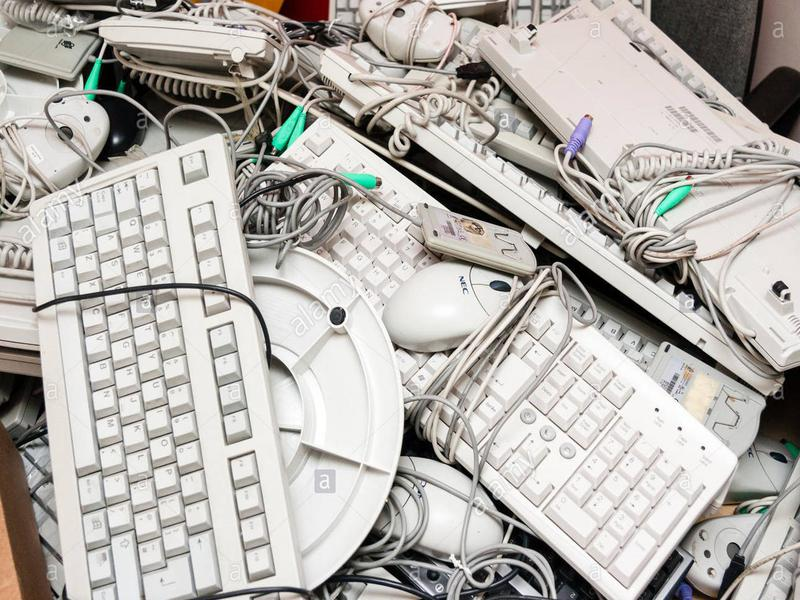keyboard: (248, 120, 740, 600), (26, 135, 303, 600)
mouse: (372, 252, 531, 356), (369, 454, 510, 564), (1, 91, 112, 203), (353, 1, 467, 64)
